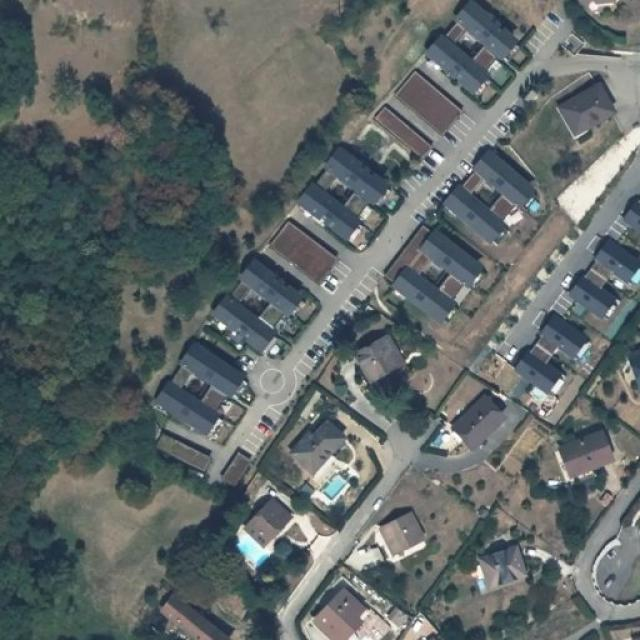maison: (424, 36, 508, 110), (470, 148, 552, 220), (418, 234, 500, 302), (316, 139, 398, 199), (455, 5, 525, 72), (440, 181, 504, 254), (293, 182, 372, 241), (206, 300, 286, 357), (434, 390, 506, 448), (392, 259, 455, 323), (555, 78, 619, 137), (239, 259, 306, 315), (152, 390, 220, 442), (551, 426, 621, 476), (175, 348, 252, 392), (352, 334, 408, 394), (565, 266, 624, 321), (372, 516, 432, 570), (311, 587, 367, 640), (157, 594, 218, 640), (514, 352, 571, 398), (245, 495, 292, 550), (468, 545, 526, 589), (591, 232, 640, 282), (546, 312, 598, 356)
piscine: (233, 532, 275, 566), (515, 385, 560, 414), (312, 470, 353, 501), (511, 188, 549, 216), (616, 254, 640, 290), (425, 431, 454, 456), (581, 334, 605, 358)
